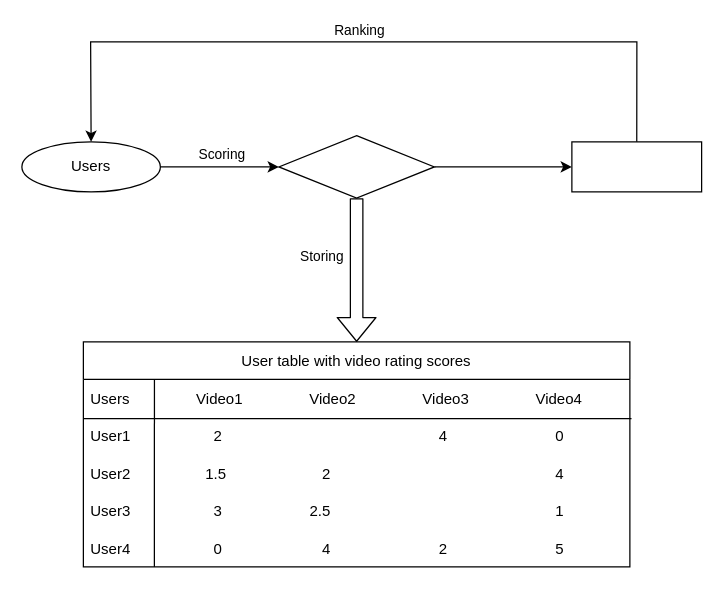
This 724x590 diagram has some shape labels left out. Each missing label, with the centre of its shape:
"Ratings" belongs at (x=356, y=166).
"Videos" belongs at (x=636, y=166).
